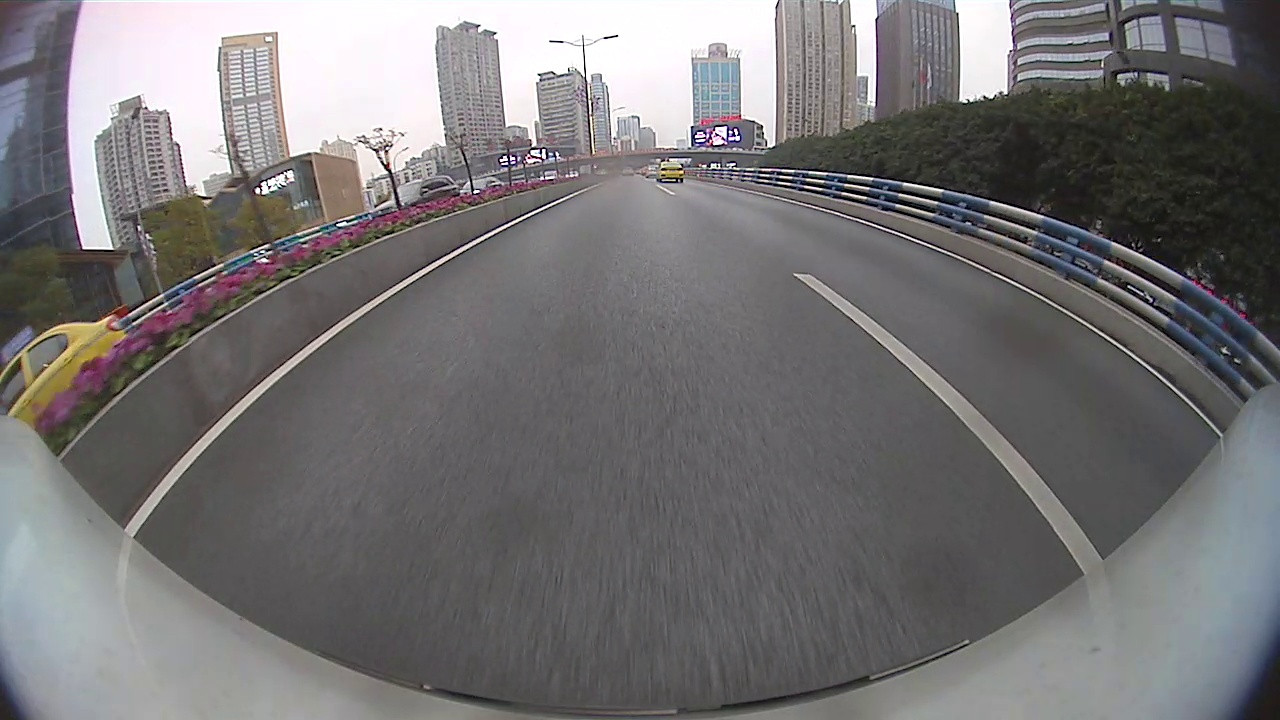car: (1, 310, 129, 433), (372, 173, 466, 216), (457, 173, 509, 200), (654, 158, 690, 185), (538, 168, 561, 182), (507, 170, 529, 184)
